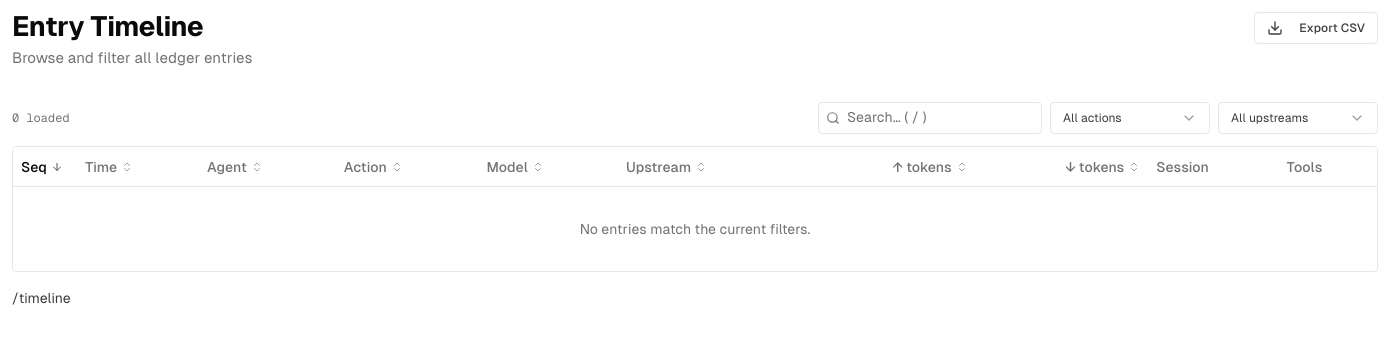
Test case: TimelinePage — filters › pushes the debounced search into the URL
In the field with placeholder "Search… ( / )": (930, 118) [818,102,1042,134], type "leak"
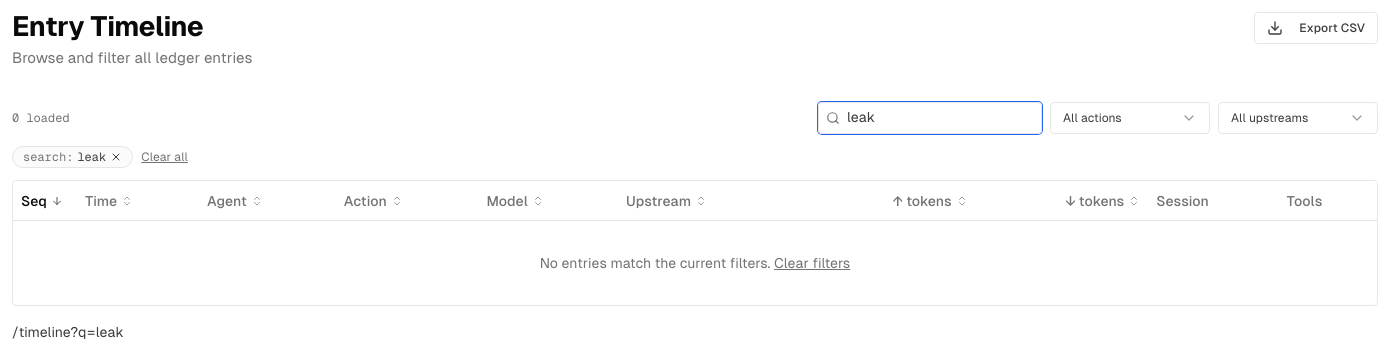
Expected: the text with test id "loc" reads "/timeline?q=leak", [12,324,124,340]
